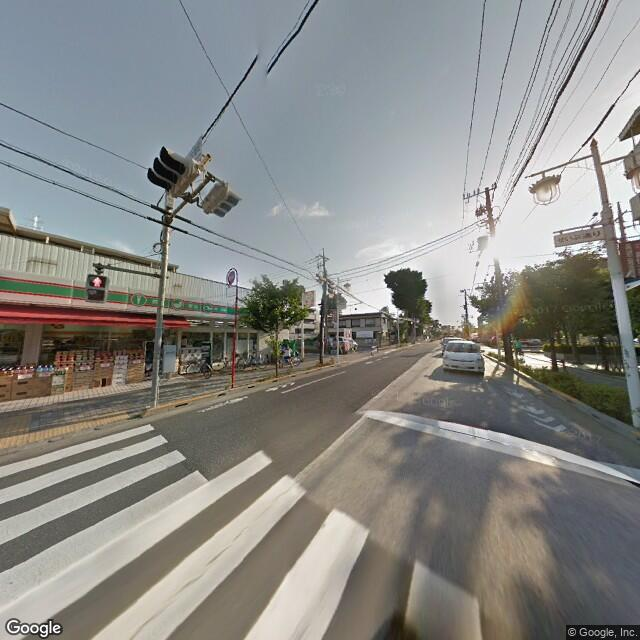lawson: (1, 268, 242, 321)
